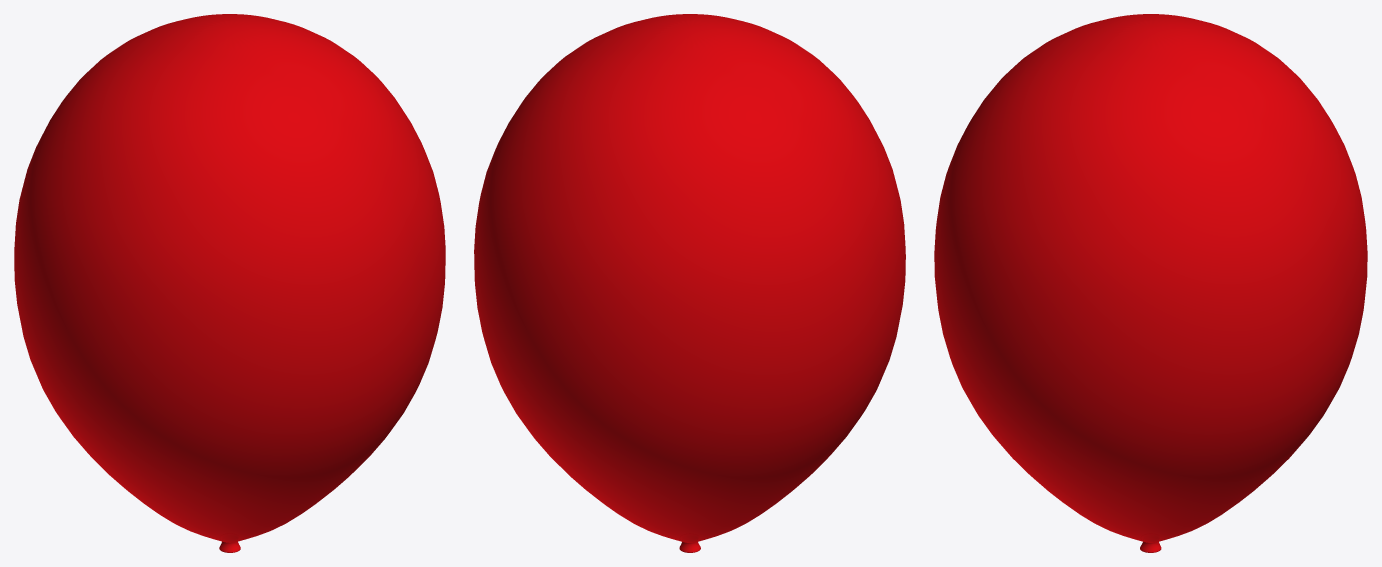
The model's file is ShapedBalloon.fbx.
3 renders of one model, left to right at view 1: azimuth 30°, elevation 25°; view 2: azimuth 150°, elevation 25°; view 3: azimuth 270°, elevation 25°, orthographic.
Parts seen in each view (by area): view 1: Sphere; view 2: Sphere; view 3: Sphere.
Boxes of the visible parts, x1,y1,x2,y2 form: Sphere: [14, 14, 445, 552]; Sphere: [474, 14, 905, 552]; Sphere: [934, 14, 1367, 552].
Size of the model in its own units: 260 by 344 by 261.
